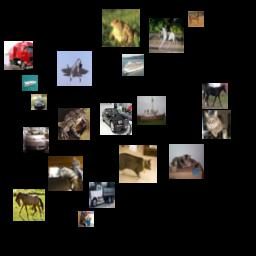airplane: (57, 51, 92, 86)
automobile: (100, 103, 132, 135), (23, 127, 49, 153), (31, 94, 47, 110)
cat: (119, 145, 157, 183), (169, 144, 204, 179), (202, 110, 231, 139), (78, 211, 94, 227)
frog: (102, 9, 140, 47), (58, 108, 90, 140)
ship: (137, 96, 166, 125), (122, 54, 144, 76), (22, 75, 38, 91)
truck: (4, 41, 33, 70), (89, 182, 115, 208)
